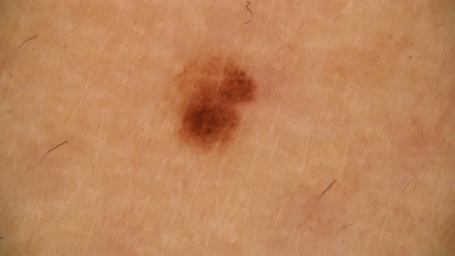nevus: (169, 50, 257, 158)
